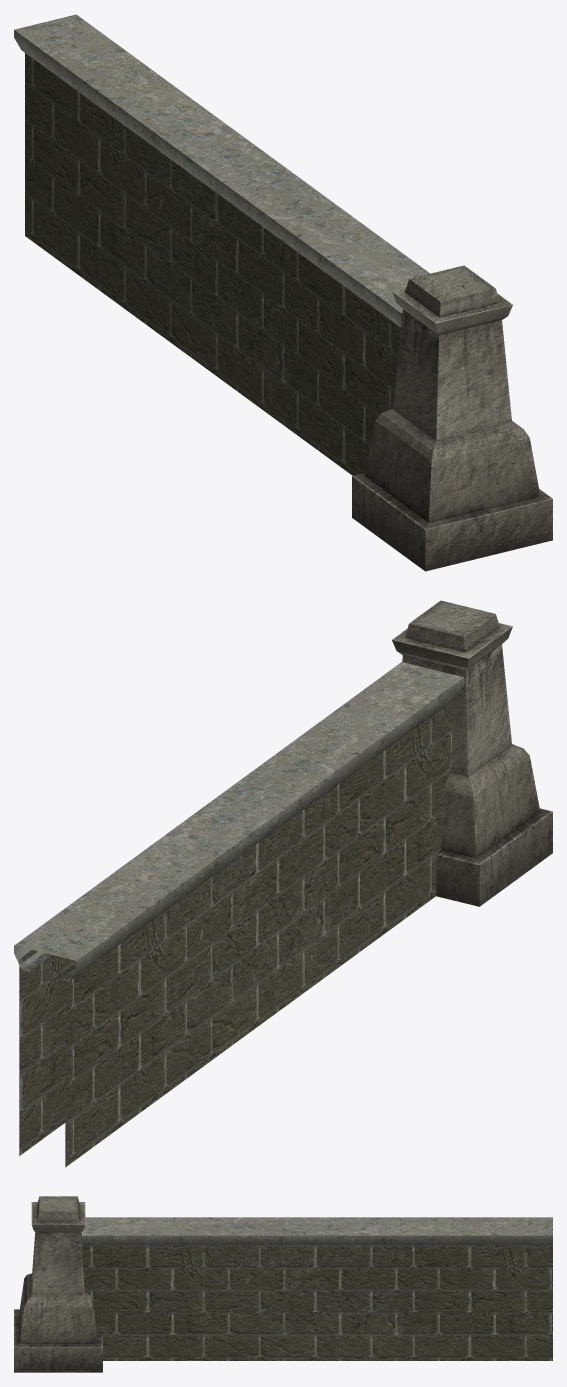
The model's file is LowWall.dae.
3 renders of one model, top to bottom at view 1: azimuth 30°, elevation 25°; view 2: azimuth 150°, elevation 25°; view 3: azimuth 270°, elevation 25°, orthographic. The views are drawn at different scales.
Visible parts, largest first — view 1: LowWall; view 2: LowWall; view 3: LowWall.
Boxes of the visible parts, <box> form: LowWall: <box>14,14,552,571</box>; LowWall: <box>14,600,552,1167</box>; LowWall: <box>14,1196,552,1372</box>.
Bounding box in the file's own units: 0.9495 × 5.72 × 1.74.
